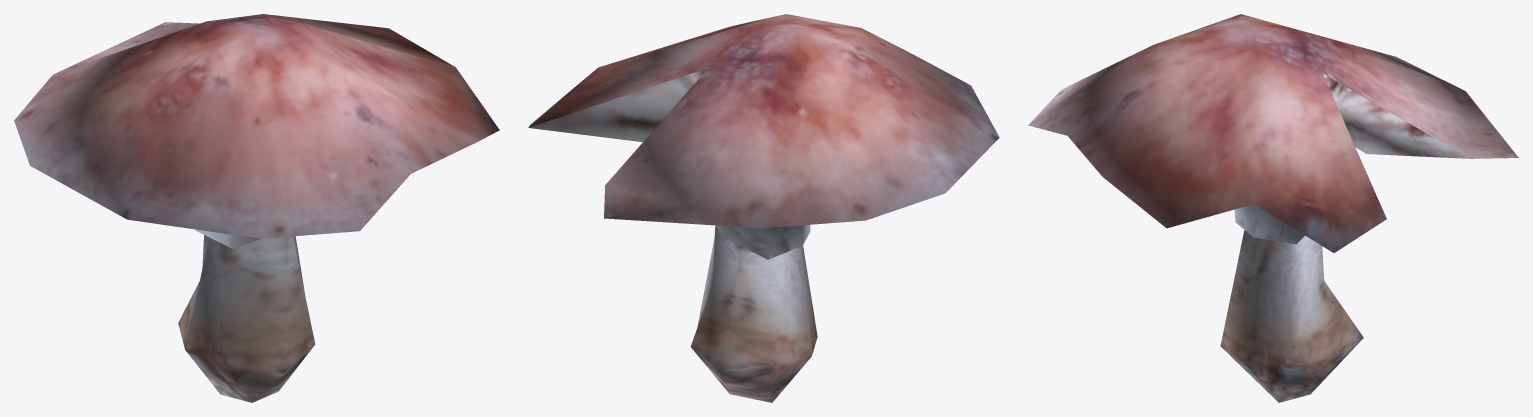
File: SM_TOADSTOOL_12.FBX
3 views of the same model, side by side, from view 1: azimuth 30°, elevation 25°; view 2: azimuth 150°, elevation 25°; view 3: azimuth 270°, elevation 25° (orthographic). The views are drawn at different scales.
Visible parts, largest first — view 1: SM_TOADSTOOL_12; view 2: SM_TOADSTOOL_12; view 3: SM_TOADSTOOL_12.
Boxes of the visible parts, box(x1,y1,x2,y2) form: SM_TOADSTOOL_12: box(14, 14, 499, 402); SM_TOADSTOOL_12: box(528, 14, 999, 402); SM_TOADSTOOL_12: box(1028, 14, 1518, 402).
Bounding box in the file's own units: 13.96 × 14.8 × 11.86.
